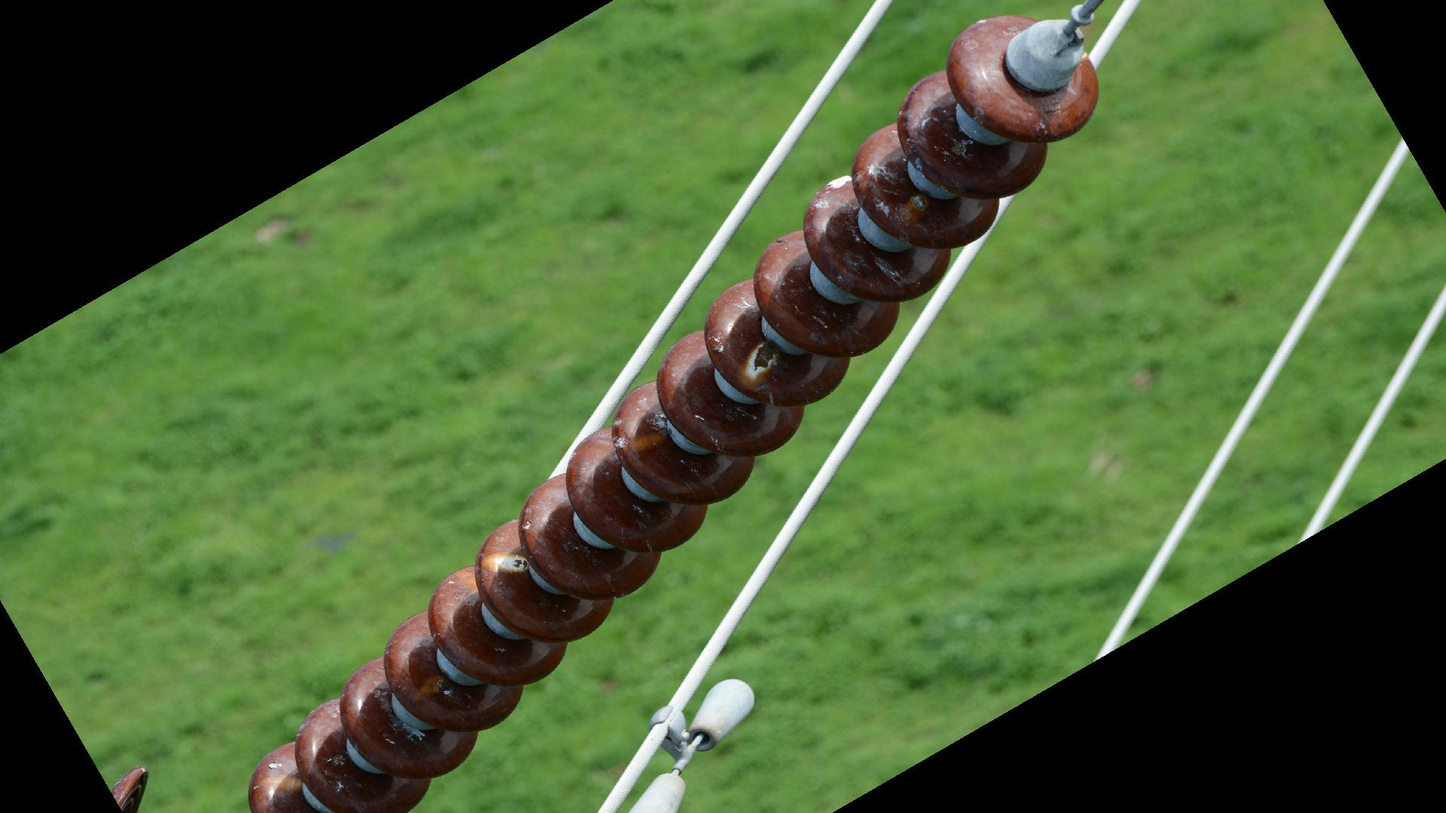insulator: (236, 9, 1103, 813)
insulator_flashover: (742, 341, 781, 385), (480, 549, 530, 576)
